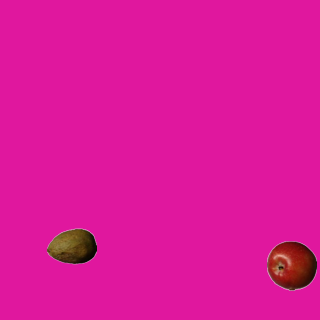Apple Braeburn: (266, 240, 316, 290)
Papaya: (46, 221, 96, 271)
